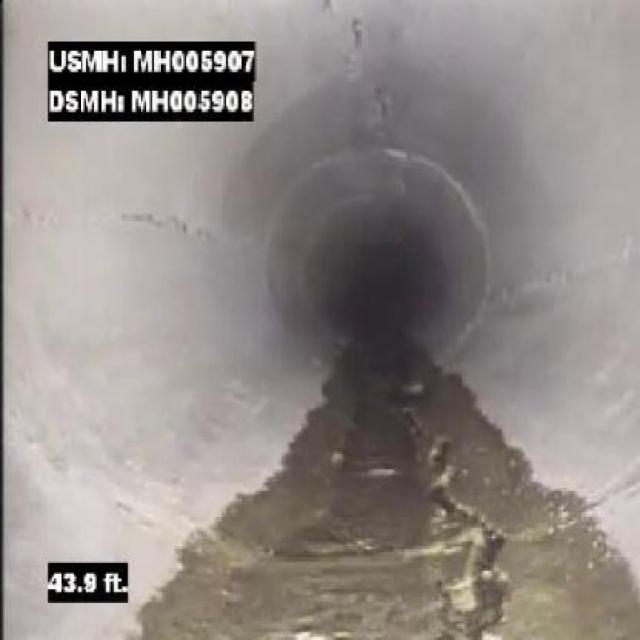Buckling: (420, 431, 514, 635)
Crack: (111, 206, 217, 249), (499, 257, 583, 308), (343, 11, 372, 74)
